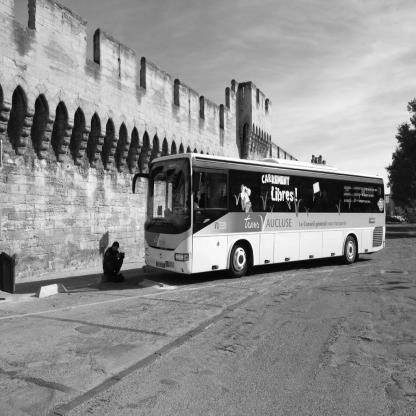bus: (133, 137, 388, 278)
